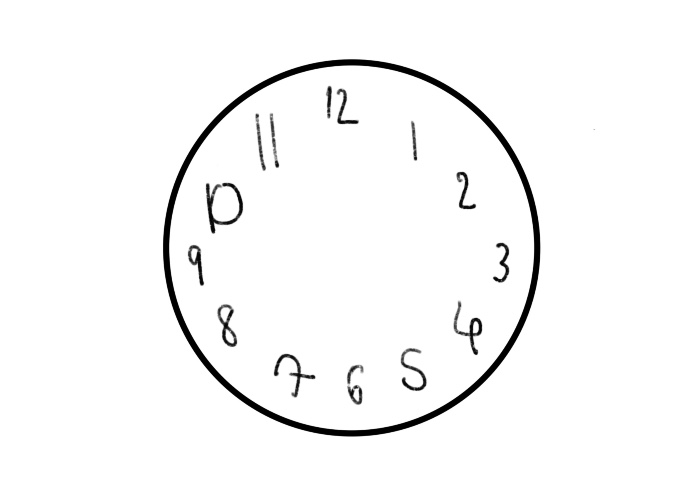eight: (215, 300, 241, 350)
eleven: (250, 112, 287, 172)
five: (398, 346, 432, 394)
four: (450, 297, 485, 358)
nine: (183, 242, 208, 290)
one: (407, 115, 422, 166)
seven: (272, 350, 316, 398)
six: (340, 364, 371, 408)
ten: (202, 179, 245, 234)
three: (490, 238, 512, 285)
twelve: (321, 85, 361, 129)
two: (453, 168, 481, 211)
